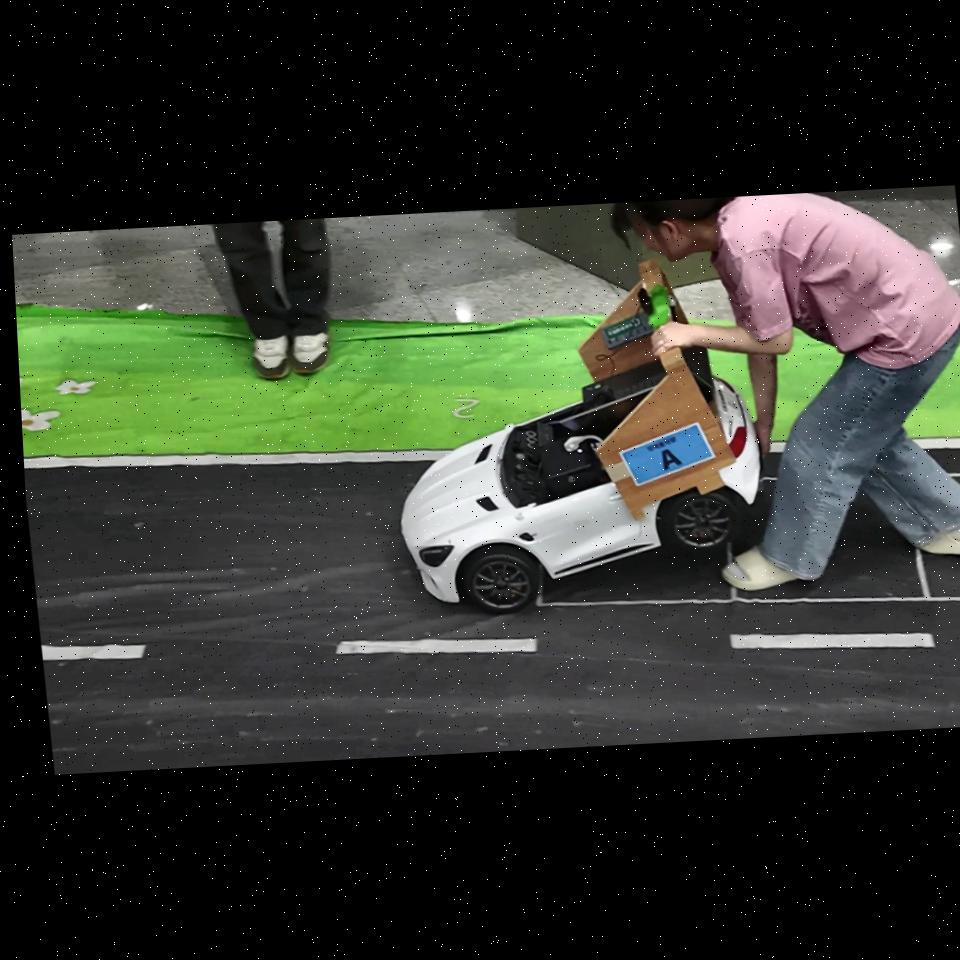broken_line: (729, 632, 936, 649), (335, 638, 538, 655), (41, 644, 147, 661)
